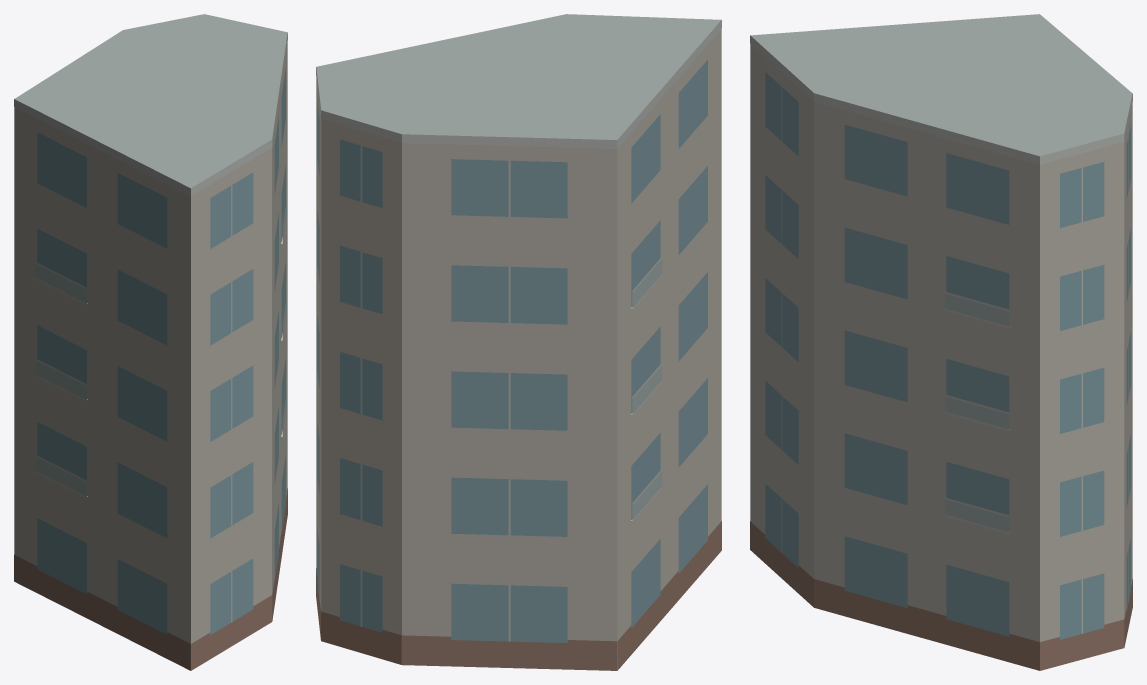
The model's file is survey-upis-32462113.glb.
3 renders of one model, left to right at view 1: azimuth 30°, elevation 25°; view 2: azimuth 150°, elevation 25°; view 3: azimuth 270°, elevation 25°, orthographic. The views are drawn at different scales.
Parts seen in each view (by area): view 1: survey-upis-32462113.tmp; view 2: survey-upis-32462113.tmp; view 3: survey-upis-32462113.tmp.
Boxes of the visible parts, x1=… form: survey-upis-32462113.tmp: x1=14, y1=14, x2=287, y2=670; survey-upis-32462113.tmp: x1=316, y1=14, x2=721, y2=670; survey-upis-32462113.tmp: x1=750, y1=14, x2=1132, y2=670.
Size of the model in its own units: 8.76 by 14.75 by 9.94.
